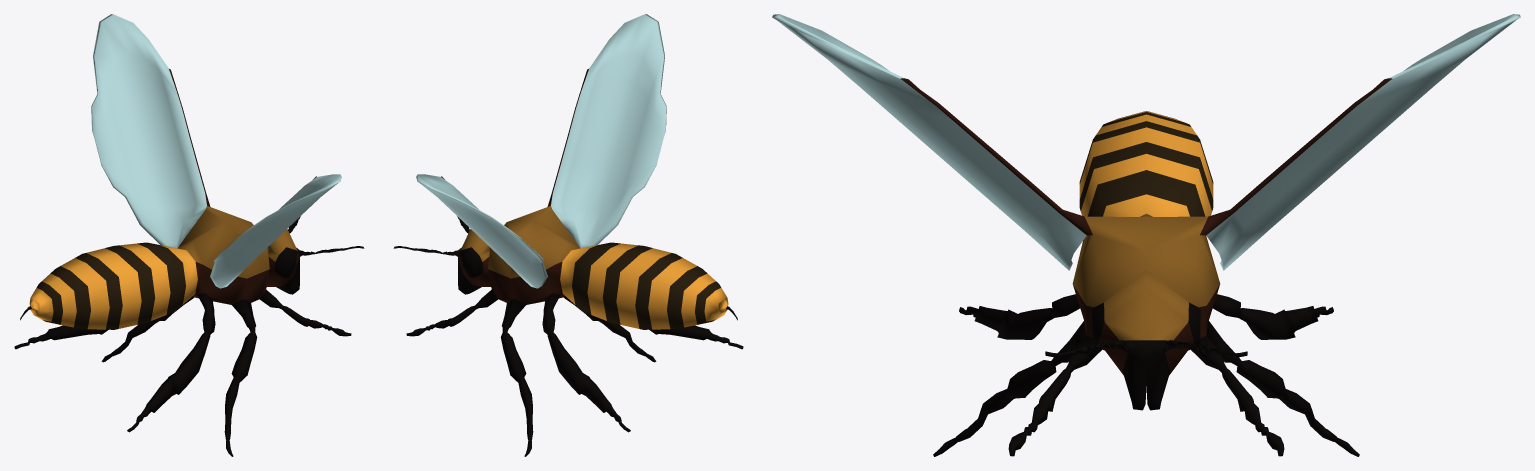
Rendered from bee.glb.
3 renders of one model, left to right at view 1: azimuth 30°, elevation 25°; view 2: azimuth 150°, elevation 25°; view 3: azimuth 270°, elevation 25°, orthographic. The views are drawn at different scales.
Visible parts, largest first — view 1: Cube.082; view 2: Cube.082; view 3: Cube.082.
Part boxes in pixels (x1,y1,x2,y2): Cube.082: (14,14,364,456); Cube.082: (393,14,743,456); Cube.082: (772,14,1520,456).
Bounding box in the file's own units: 0.1912 × 0.1736 × 0.2418.
